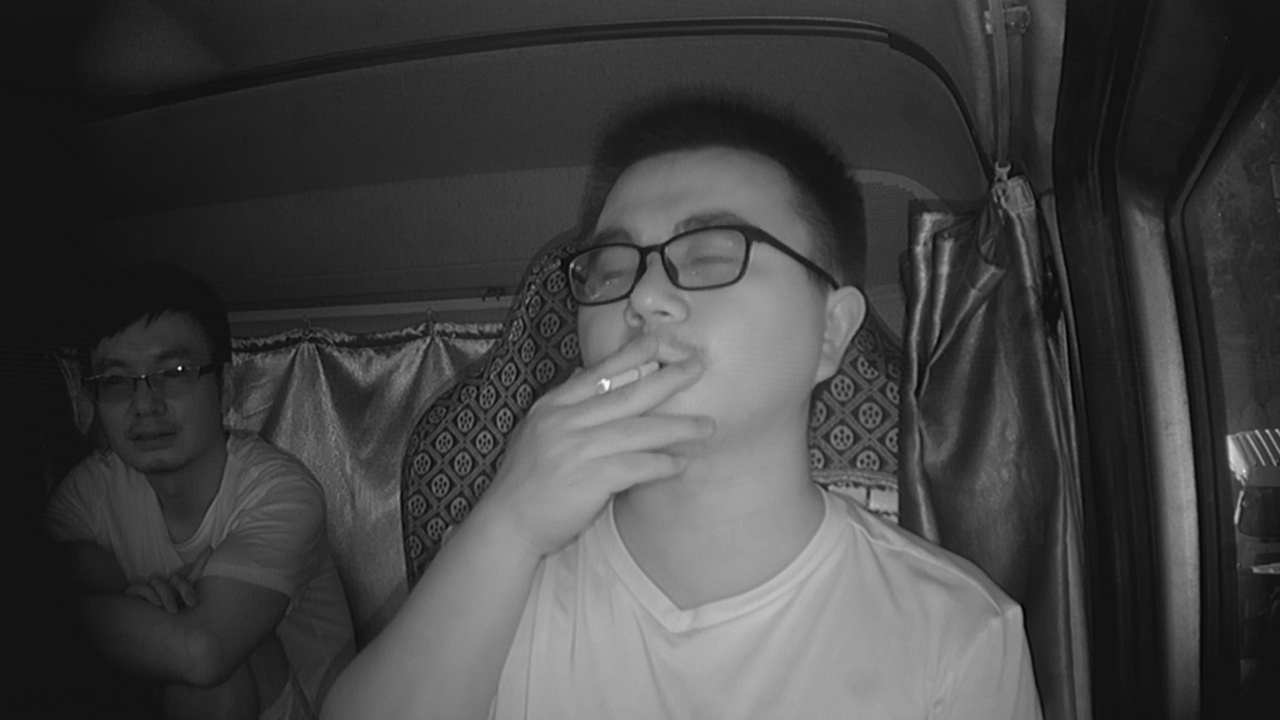hand: (543, 341, 699, 507)
